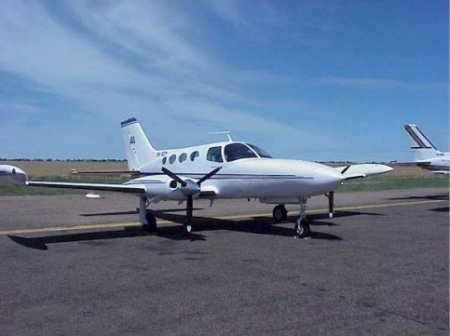Aeronef_commercial: (1, 100, 407, 248)
